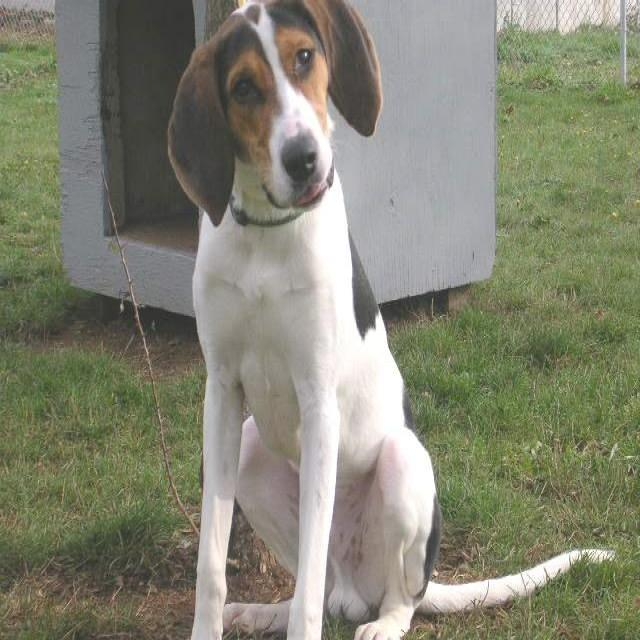sitting: (163, 0, 613, 640)
